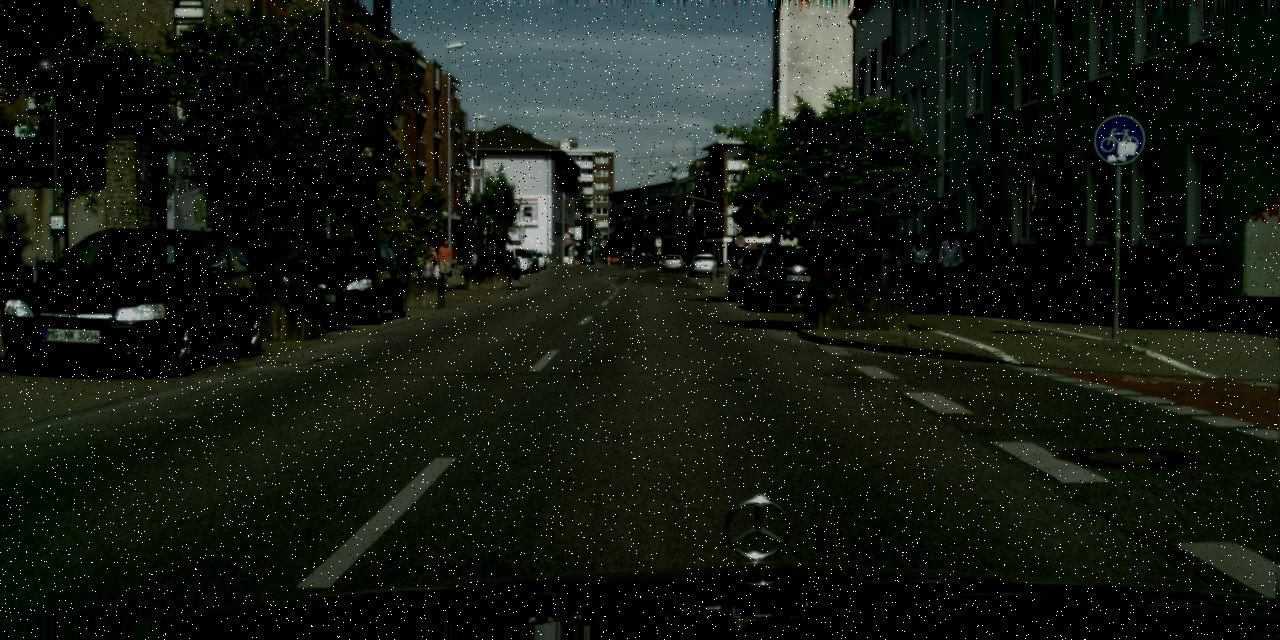ped: (936, 228, 964, 300), (907, 234, 933, 300), (417, 242, 452, 282)
